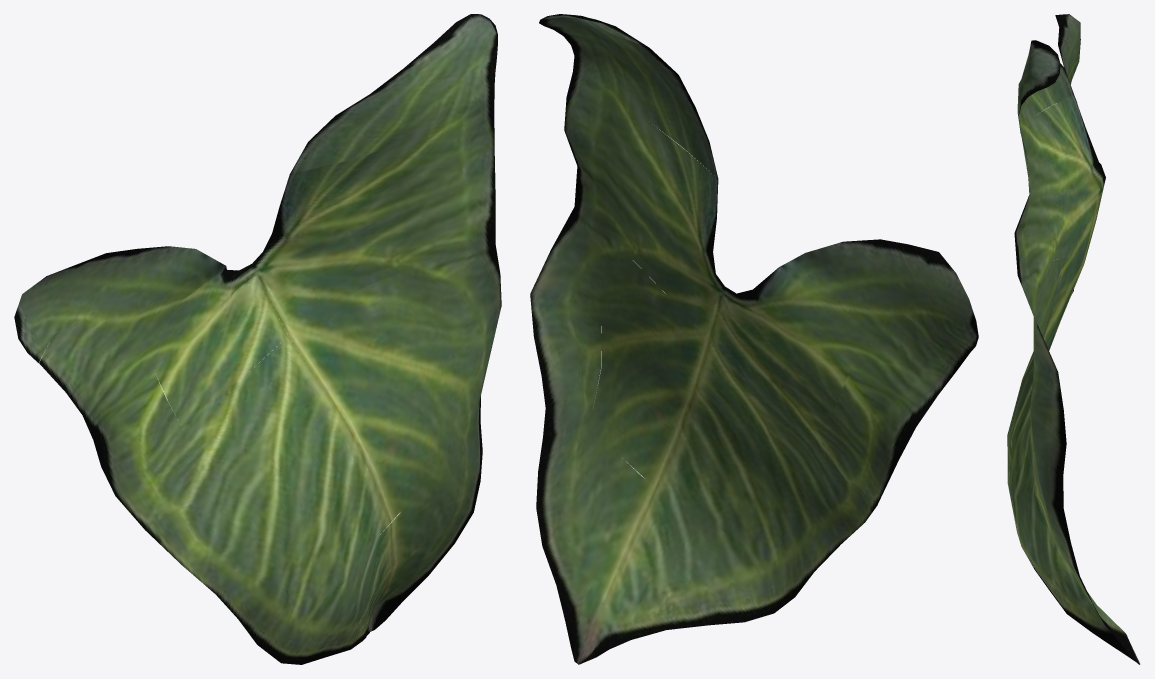
The model's file is vine-leaf.glb.
3 renders of one model, left to right at view 1: azimuth 30°, elevation 25°; view 2: azimuth 150°, elevation 25°; view 3: azimuth 270°, elevation 25°, orthographic. The views are drawn at different scales.
Parts seen in each view (by area): view 1: vine-leaf; view 2: vine-leaf; view 3: vine-leaf.
Part boxes in pixels (left/top/right/bottom): vine-leaf: left=14, top=14, right=501, bottom=664; vine-leaf: left=530, top=14, right=978, bottom=664; vine-leaf: left=1007, top=14, right=1140, bottom=664.
Size of the model in its own units: 0.2489 by 0.3166 by 0.0597.
1 material, 1 textured.
